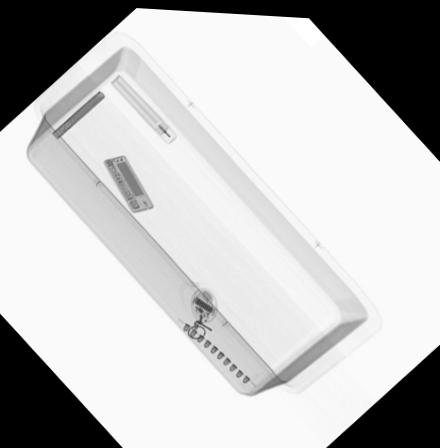Knife: (50, 90, 104, 139)
